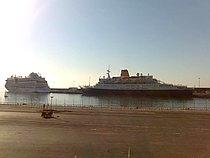Ship: (95, 71, 196, 100), (7, 75, 53, 95)
